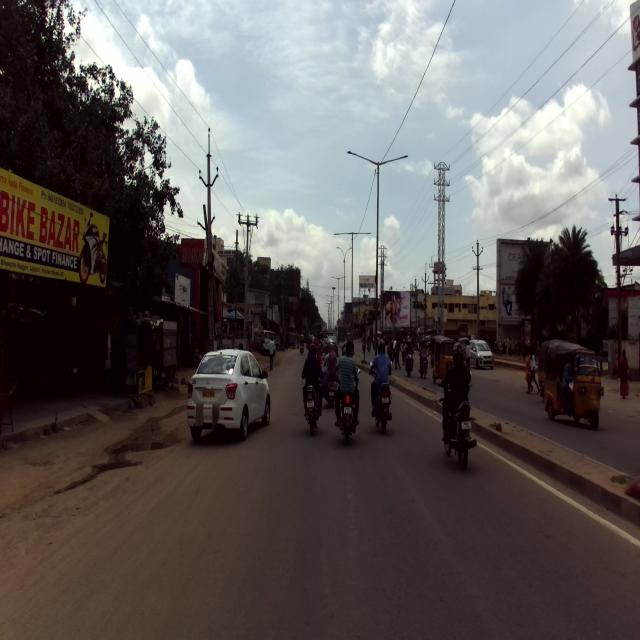Car_Hyundai: (187, 348, 270, 443)
autorickshaw: (544, 341, 604, 431)
motorcycle_Hero: (438, 374, 476, 470), (334, 366, 361, 442)
